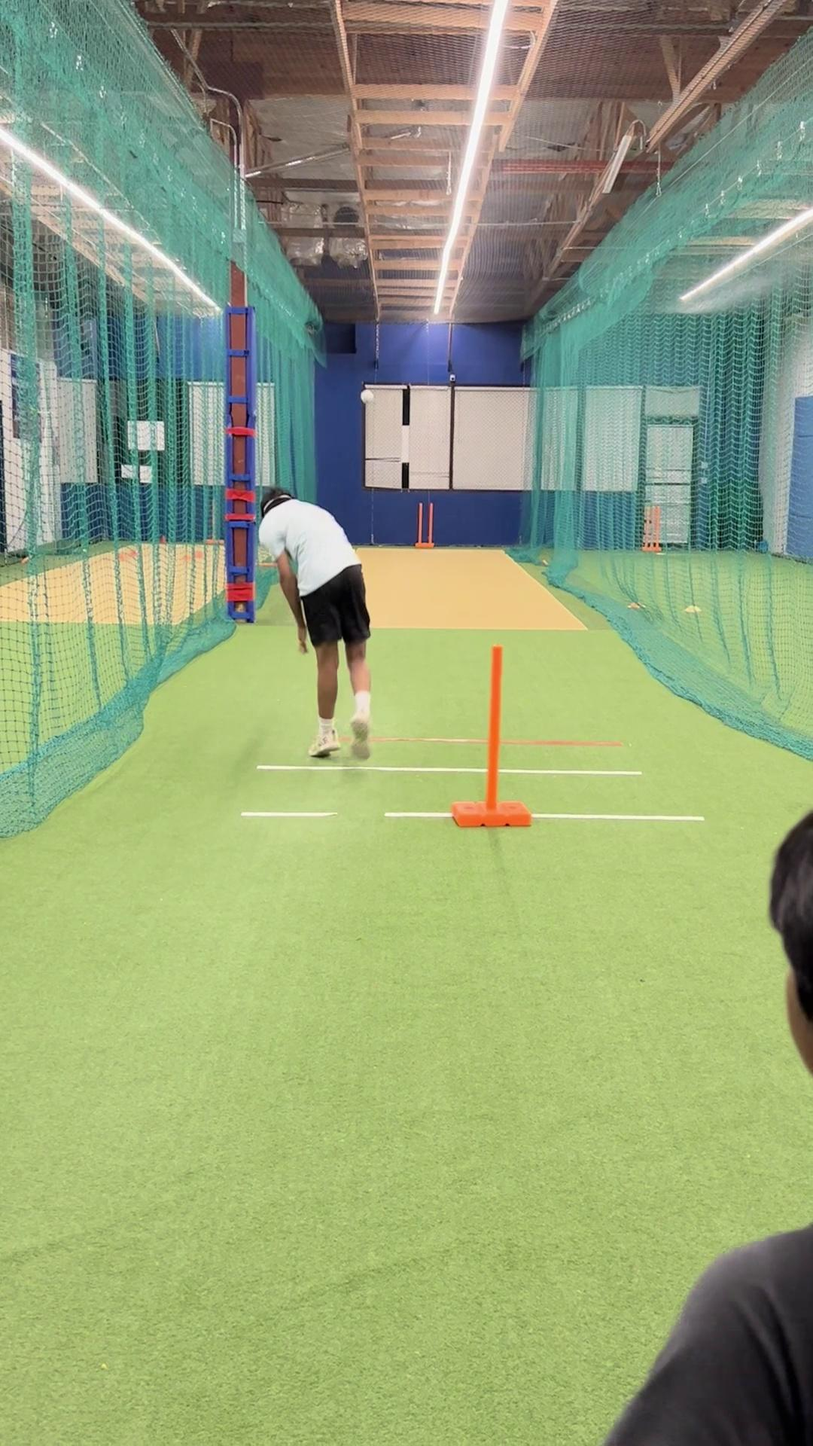ball: (355, 384, 379, 410)
